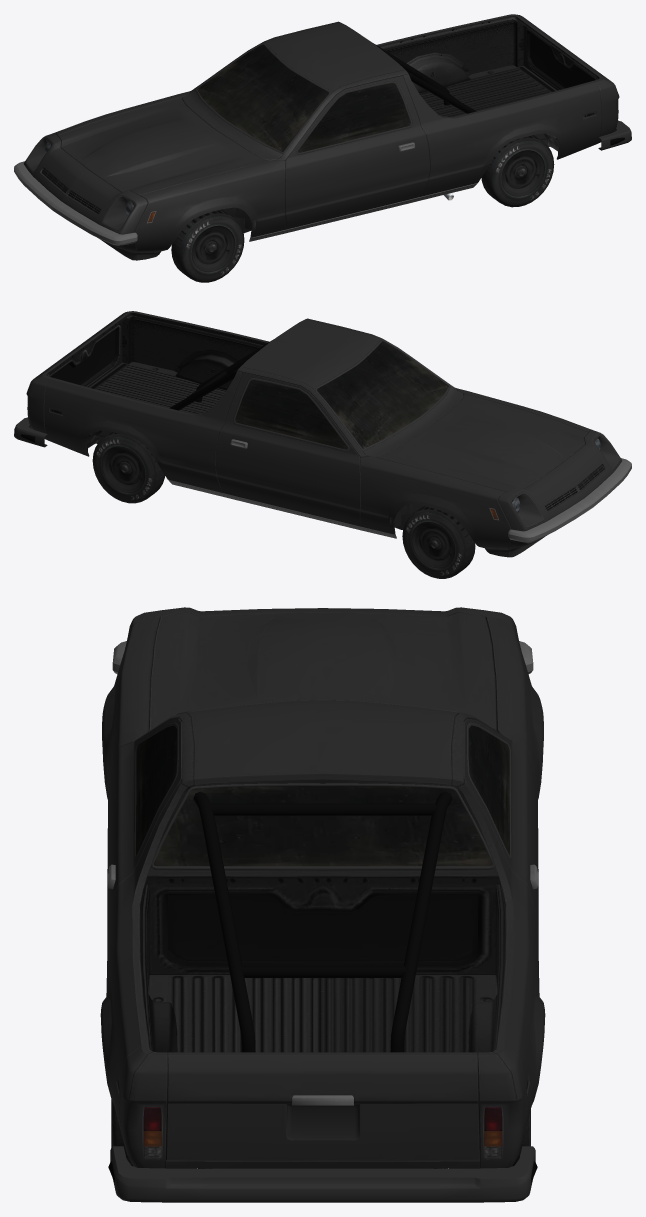
Rendered from derbycoupe78.glb.
3 views of the same model, one above another, from view 1: azimuth 30°, elevation 25°; view 2: azimuth 150°, elevation 25°; view 3: azimuth 270°, elevation 25° (orthographic). The views are drawn at different scales.
Visible parts, largest first — view 1: BODY_body_0, HOOD_body_0, DOOR_FRONT_LEFT_body_0, FENDER_LEFT_body_0, GLASS_FRONT_GLASS_0, GRILL_PLATE_body_0, DOOR_FRONT_LEFT_GLASS_0, WHEELFL, WHEELRL, DOOR_TRUNK_body_0, BODY_BOTTOM_MATERIAL_0, BUMPER_FRONT_BOTTOM_MATERIAL_0 (+7 smaller); view 2: BODY_body_0, HOOD_body_0, DOOR_FRONT_RIGHT_body_0, FENDER_RIGHT_body_0, GLASS_FRONT_GLASS_0, GRILL_PLATE_body_0, DOOR_FRONT_RIGHT_GLASS_0, WHEELFR, WHEELRR, DOOR_TRUNK_body_0, BODY_BOTTOM_MATERIAL_0, BUMPER_FRONT_BOTTOM_MATERIAL_0 (+7 smaller); view 3: BODY_body_0, DOOR_TRUNK_body_0, HOOD_body_0, GLASS_REAR_GLASS_0, BUMPER_REAR1_BOTTOM_MATERIAL_0, ROLLCAGE_ROLLCAGE_PAINT_0, FENDER_RIGHT_body_0, FENDER_LEFT_body_0, DOOR_FRONT_RIGHT_body_0, DOOR_FRONT_LEFT_body_0, DOOR_FRONT_RIGHT_GLASS_0, DOOR_FRONT_LEFT_GLASS_0 (+5 smaller).
Boxes of the visible parts, x1,y1,x2,y2 form: BODY_body_0: (182, 14, 619, 196); HOOD_body_0: (58, 97, 269, 195); DOOR_FRONT_LEFT_body_0: (285, 75, 430, 229); FENDER_LEFT_body_0: (134, 159, 285, 260); GLASS_FRONT_GLASS_0: (197, 44, 328, 151); GRILL_PLATE_body_0: (24, 132, 147, 260); DOOR_FRONT_LEFT_GLASS_0: (298, 83, 410, 152); WHEELFL: (171, 209, 244, 282); WHEELRL: (481, 135, 554, 207); DOOR_TRUNK_body_0: (519, 18, 605, 90); BODY_BOTTOM_MATERIAL_0: (37, 43, 559, 233); BUMPER_FRONT_BOTTOM_MATERIAL_0: (14, 161, 137, 245); BODY_body_0: (26, 311, 463, 493); HOOD_body_0: (376, 393, 587, 492); DOOR_FRONT_RIGHT_body_0: (215, 372, 360, 526); FENDER_RIGHT_body_0: (360, 456, 511, 557); GLASS_FRONT_GLASS_0: (317, 341, 448, 448); GRILL_PLATE_body_0: (498, 429, 621, 557); DOOR_FRONT_RIGHT_GLASS_0: (235, 380, 347, 449); WHEELFR: (402, 506, 475, 578); WHEELRR: (92, 432, 164, 503); DOOR_TRUNK_body_0: (41, 315, 126, 387); BODY_BOTTOM_MATERIAL_0: (86, 340, 450, 530); BUMPER_FRONT_BOTTOM_MATERIAL_0: (508, 458, 631, 542); BODY_body_0: (100, 700, 545, 1168); DOOR_TRUNK_body_0: (166, 1052, 479, 1160); HOOD_body_0: (149, 613, 496, 730); GLASS_REAR_GLASS_0: (153, 786, 492, 866); BUMPER_REAR1_BOTTOM_MATERIAL_0: (110, 1146, 535, 1202); ROLLCAGE_ROLLCAGE_PAINT_0: (193, 791, 452, 1052); FENDER_RIGHT_body_0: (486, 617, 543, 799); FENDER_LEFT_body_0: (102, 617, 160, 799); DOOR_FRONT_RIGHT_body_0: (463, 718, 538, 942); DOOR_FRONT_LEFT_body_0: (107, 718, 182, 942); DOOR_FRONT_RIGHT_GLASS_0: (468, 725, 509, 855); DOOR_FRONT_LEFT_GLASS_0: (136, 725, 177, 855).
Bounding box in the file's own units: 467 × 126 × 169.
Materials: 6 (5 with a texture image).
